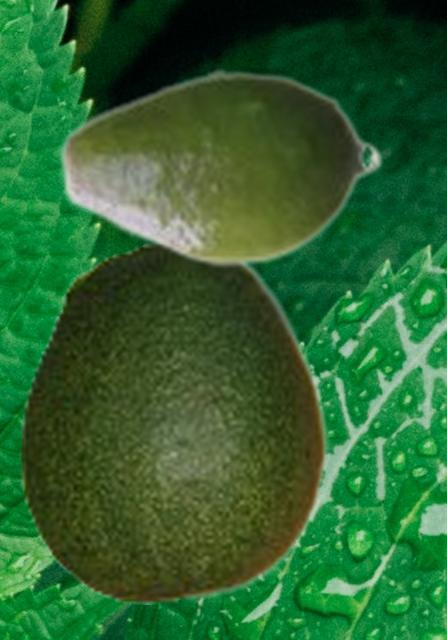avocado: (18, 241, 328, 603), (56, 66, 384, 269)
